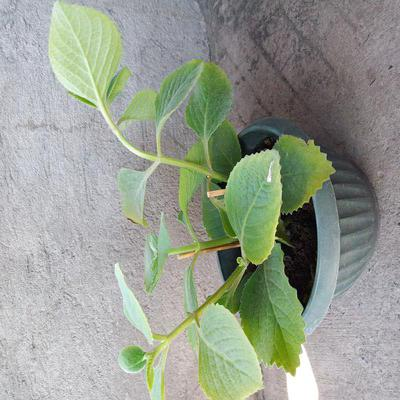Oregano: (74, 81, 311, 386)
